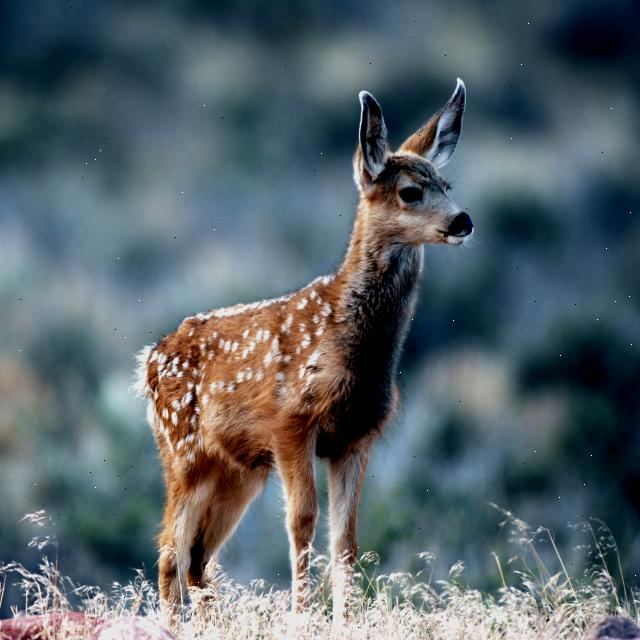deer: (317, 67, 492, 257)
